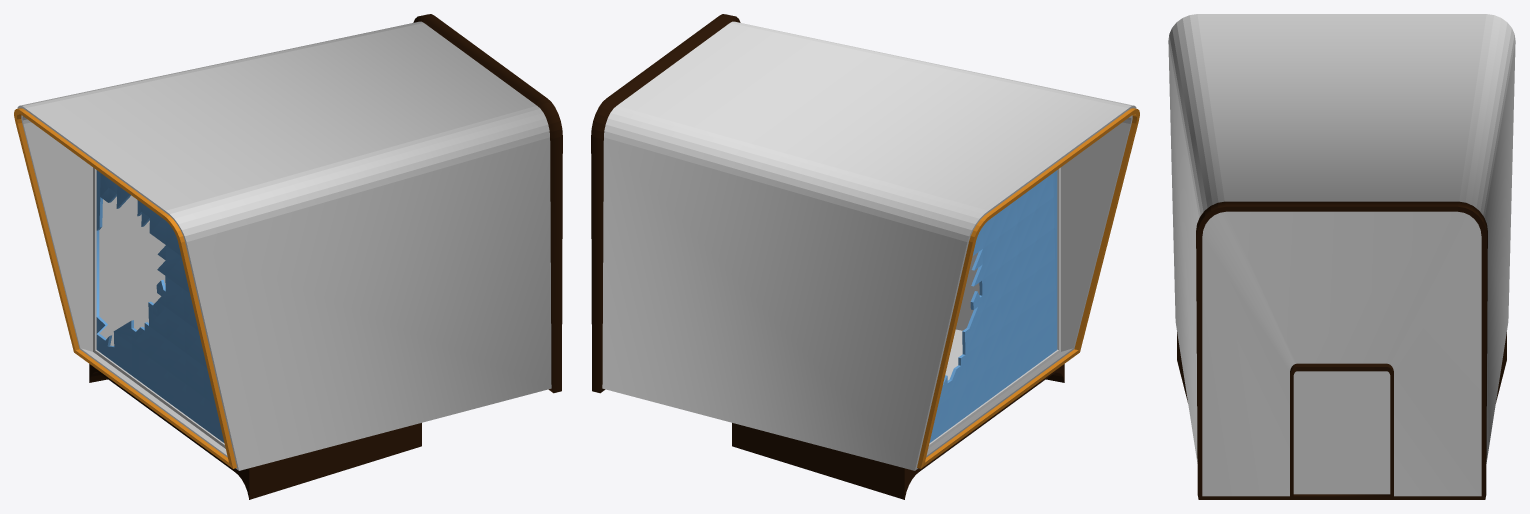
Rendered from EnergyVault_brokenUnit.fbx.
3 renders of one model, left to right at view 1: azimuth 30°, elevation 25°; view 2: azimuth 150°, elevation 25°; view 3: azimuth 270°, elevation 25°, orthographic. The views are drawn at different scales.
Visible parts, largest first — view 1: VaultHouse_Broken, VaultHouse_Broken_Window, VaultHouse_BrokenInside; view 2: VaultHouse_Broken, VaultHouse_Broken_Window, VaultHouse_BrokenInside; view 3: VaultHouse_Broken.
Boxes of the visible parts, bbox=[...] form: VaultHouse_Broken: bbox=[14, 14, 562, 499]; VaultHouse_Broken_Window: bbox=[96, 170, 224, 443]; VaultHouse_BrokenInside: bbox=[99, 195, 165, 345]; VaultHouse_Broken: bbox=[591, 14, 1139, 499]; VaultHouse_Broken_Window: bbox=[929, 170, 1057, 443]; VaultHouse_BrokenInside: bbox=[945, 252, 979, 380]; VaultHouse_Broken: bbox=[1168, 14, 1515, 499].
Bounding box in the file's own units: 309 × 222 × 222.
